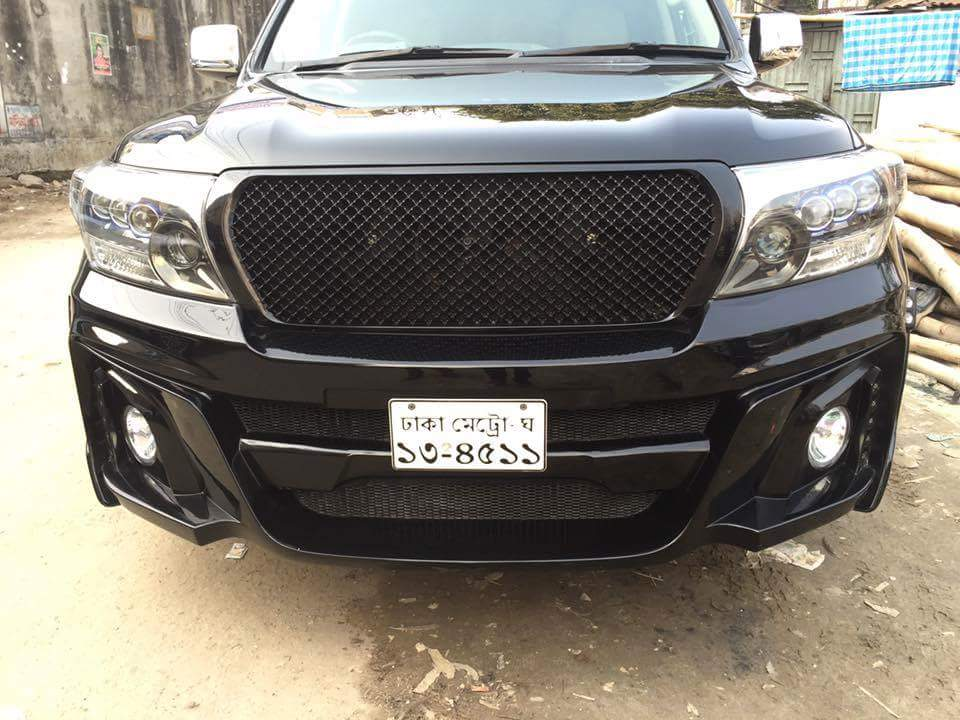registration_plate: (387, 396, 547, 471)
